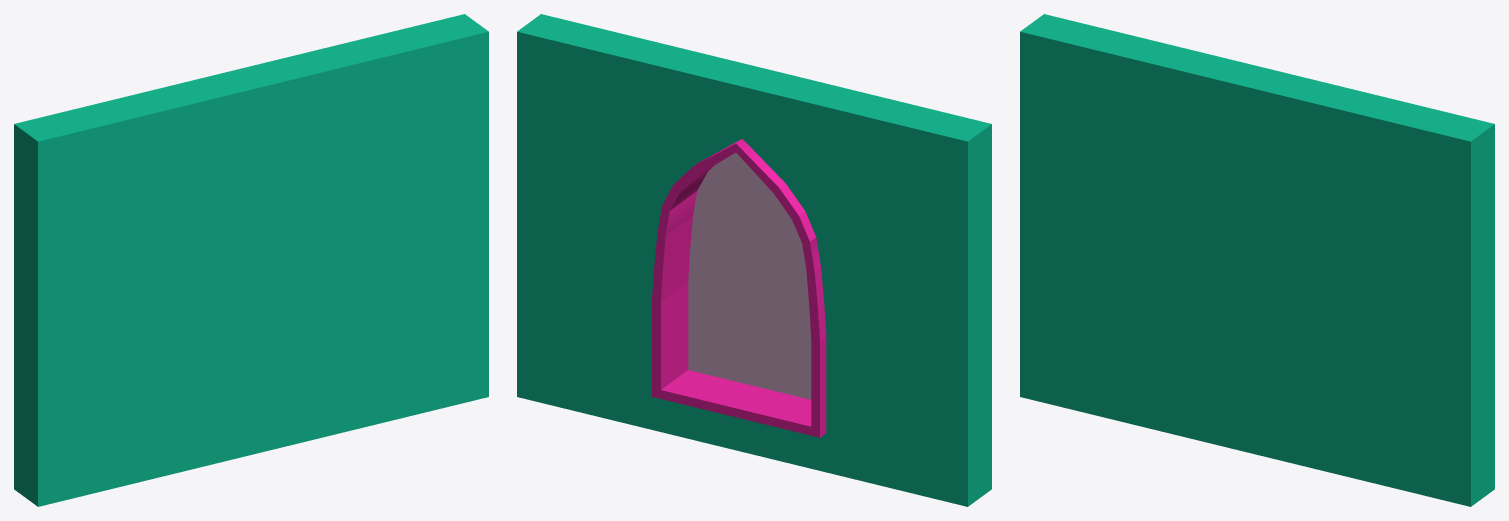
3 views of the same model, side by side, from view 1: azimuth 30°, elevation 25°; view 2: azimuth 150°, elevation 25°; view 3: azimuth 330°, elevation 25° (orthographic).
Parts seen in each view (by area): view 1: wall03_low; view 2: wall03_low; view 3: wall03_low.
Boxes of the visible parts, bbox=[...] form: wall03_low: bbox=[14, 14, 488, 506]; wall03_low: bbox=[517, 14, 991, 506]; wall03_low: bbox=[1020, 14, 1494, 506].
Size of the model in its own units: 355 by 275 by 41.64.
